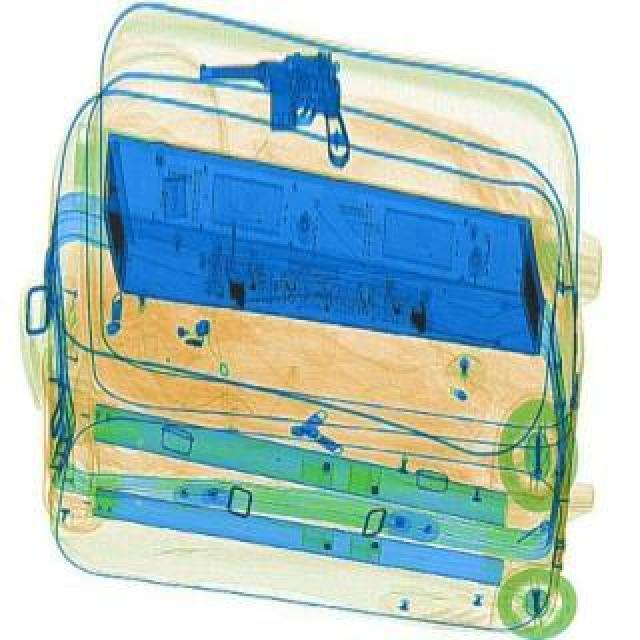gun: (194, 46, 354, 176)
